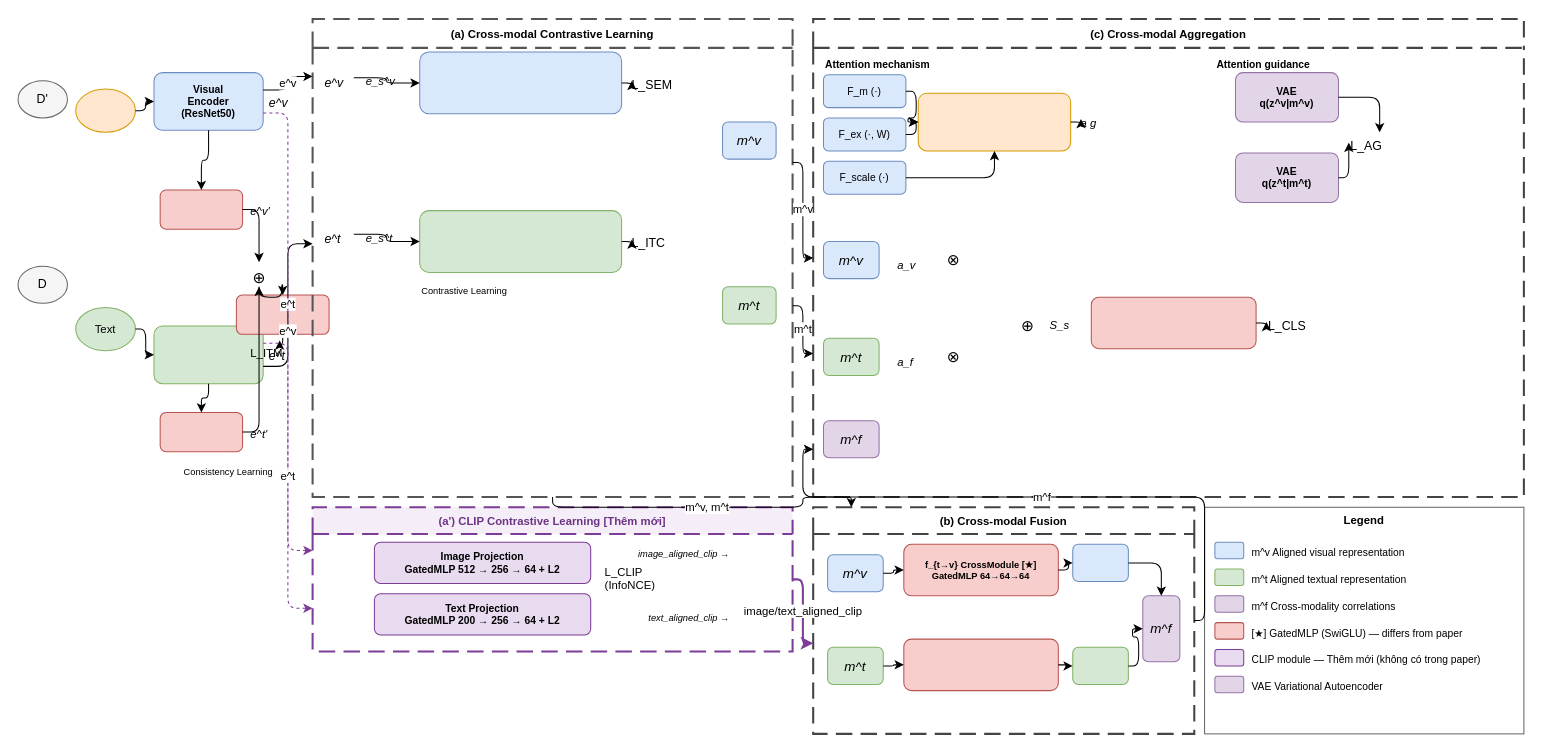
The diagram is 1543 pixels wide and 752 high, and some of its shapes have lost their labels. Each missing label, with the centre of its shape:
Attention Mechanism (SEAttentionModule): the point at 994,121
Classifier [★] GatedMLP 96 → 64 → 2: the point at 1173,322
f_{v→t} CrossModule [★] GatedMLP 64→64→64: the point at 980,664
GatedMLP (Text): the point at 201,431
GatedMLP (Visual): the point at 201,209
GatedMLP Classifier: the point at 282,314
Image: the point at 105,110
m_f^t: the point at 1100,665
m_f^v: the point at 1100,562
Predicted Similarity Matrix (Contrastive Learning): the point at 520,241
Semantic Similarity Matrix (Build target): the point at 520,82
Text Encoder (PhoBERT): the point at 208,354
